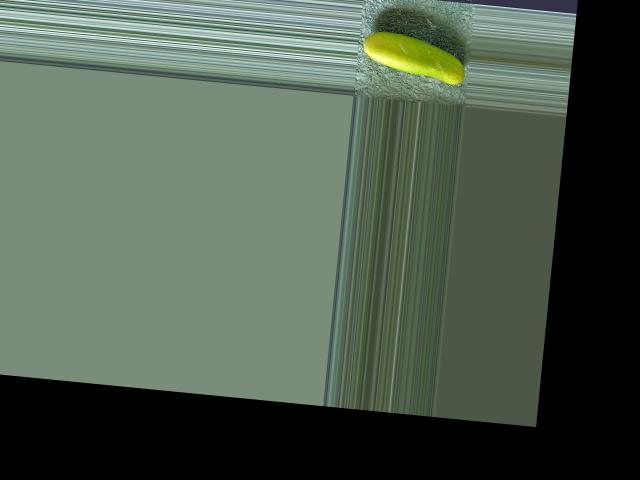cucumber: (360, 29, 468, 85)
